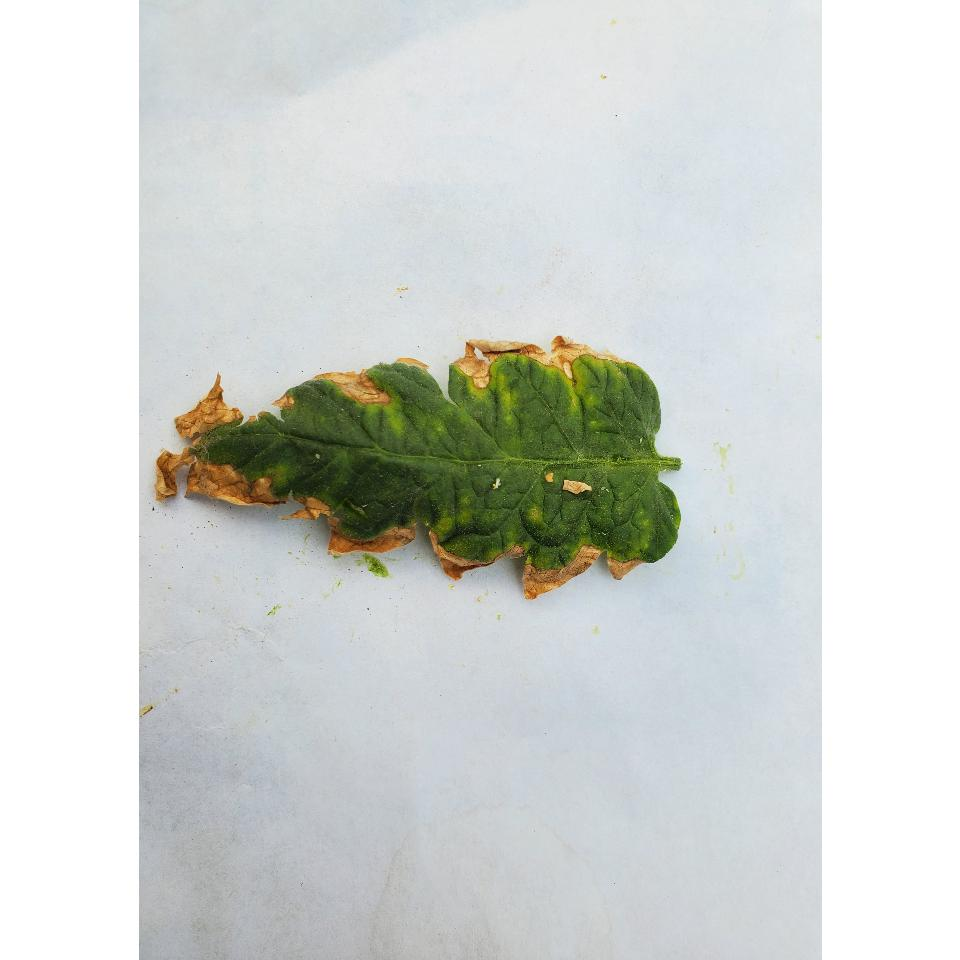tomato_bacterial_blight: (156, 363, 686, 571)
